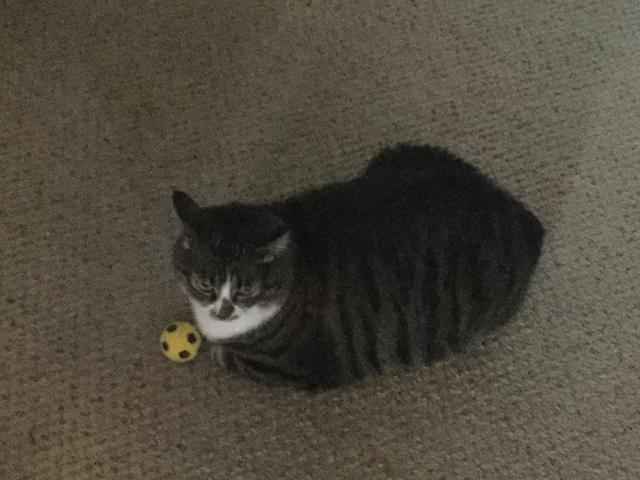playdoh: (169, 141, 550, 390)
